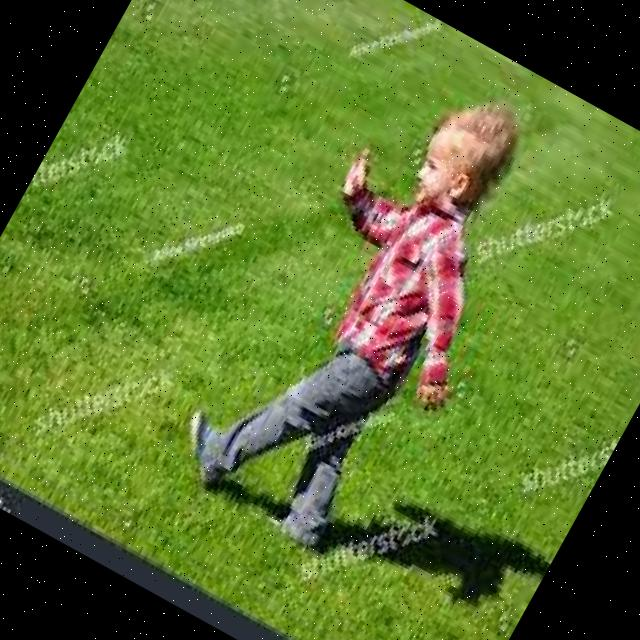Person: (164, 47, 586, 575)
